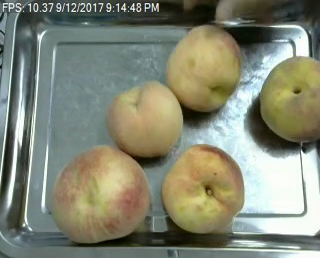Peach: (50, 145, 148, 243), (163, 143, 245, 234), (167, 25, 241, 113), (107, 82, 183, 157), (257, 57, 319, 143)
